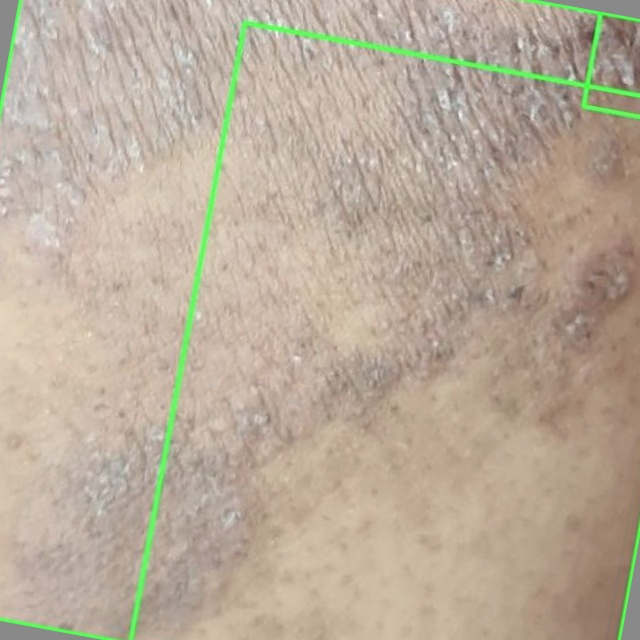Tinea Corporis: (0, 0, 639, 639), (130, 22, 639, 639)
